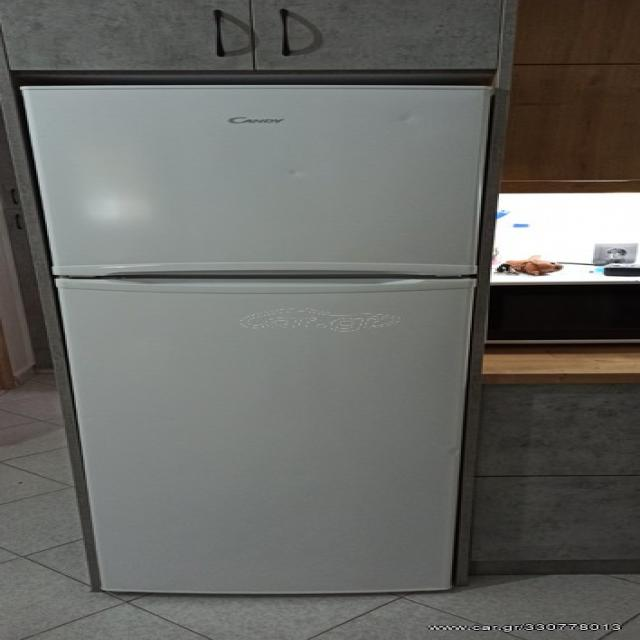refrigerator: (0, 84, 508, 598)
